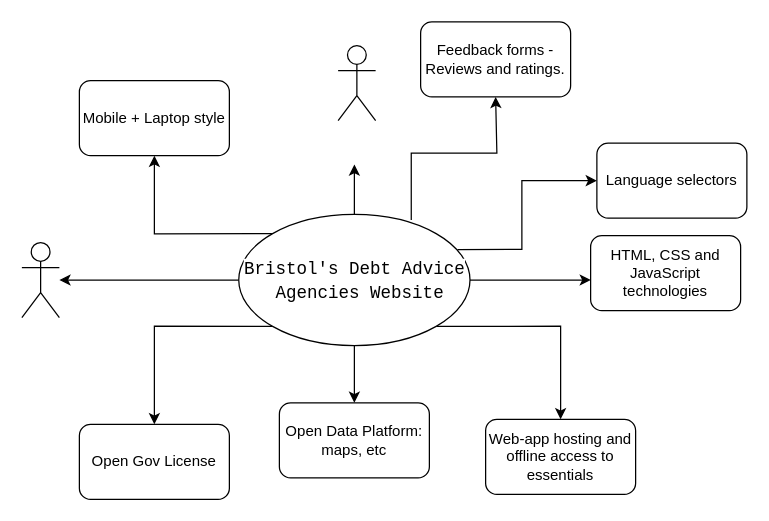
The diagram is 769 pixels wide and 521 high, and some of its shapes have lost their labels. Each missing label, with the box of its shape:
Users: (21, 241, 59, 318)
Website Operators: (337, 44, 376, 121)
